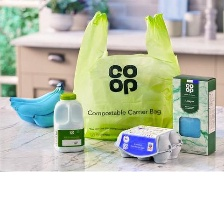bottle: (49, 89, 88, 156)
plastic_bag: (70, 8, 186, 144)
